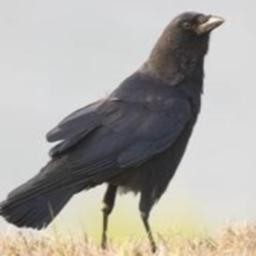Crow: (0, 9, 228, 254)
